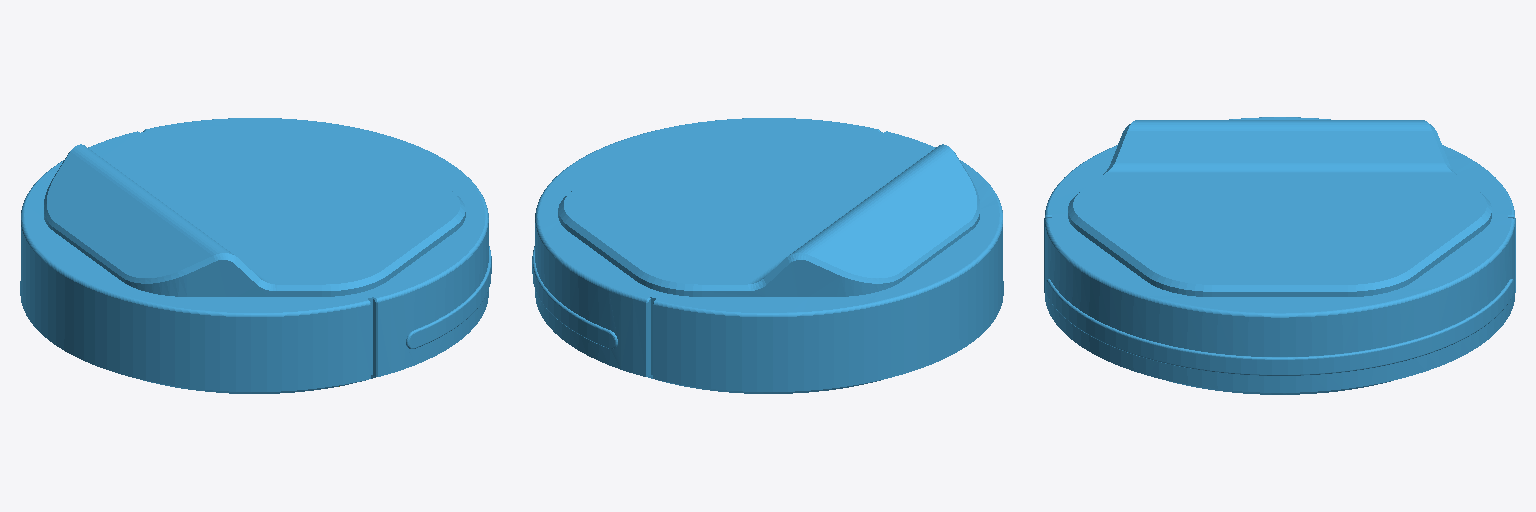
URDF robot description (tbot):
<?xml version="1.0" encoding="utf-8"?>
<robot name="tbot" xmlns:controller="http://playerstage.sourceforge.net/gazebo/xmlschema/#controller" xmlns:interface="http://playerstage.sourceforge.net/gazebo/xmlschema/#interface" xmlns:sensor="http://playerstage.sourceforge.net/gazebo/xmlschema/#sensor" xmlns:xacro="http://ros.org/wiki/xacro">

  <material name="dark">
    <color rgba="0.3 0.3 0.3 1.0"/>
  </material>

  <link name="base_footprint"/>

  <joint name="base_joint" type="fixed">
    <origin rpy="0 0 0" xyz="0 0 0.062"/>
    <parent link="base_footprint"/>
    <child link="base_link"/>
  </joint>

  <link name="base_link">
    <visual>
      <geometry>
        <mesh filename="package://tbot_sim/models/kobuki/meshes/main_body.dae"/>
      </geometry>
      <origin rpy="0 0 0" xyz="0.0 0 0.0"/>
    </visual>
    <collision name="base">
      <geometry>
        <cylinder length="0.10938" radius="0.178"/>
      </geometry>
      <origin rpy="0 0 0" xyz="0.0 0 0.05949"/>
    </collision>
    <inertial>
      <origin xyz="0.01 0 0"/>
      <mass value="2.4"/>
      <inertia ixx="0.019995" ixy="0.0" ixz="0.0" iyy="0.019995" iyz="0.0" izz="0.03675"/>
    </inertial>
  </link>

  <!-- left wheel -->
  <joint name="left_wheel_joint" type="fixed">
    <parent link="base_link"/>
    <child link="left_wheel"/>
    <origin xyz="0 0.115 -0.028" rpy="0 0 0"/>
    <axis xyz="0 1 0"/>
    <limit lower="0" upper="0" effort="0" velocity="0"/>
  </joint>

  <link name="left_wheel">
    <inertial>
      <mass value="0.010000"/>
      <origin xyz="0 0 0" rpy="0 0 0"/>
      <inertia ixx="0.001000" ixy="0" ixz="0" iyy="0.001000" iyz="0" izz="0.001000"/>
    </inertial>
    <collision name="collision">
      <origin xyz="0 0 0" rpy="0     1.5707 1.5707"/>
      <geometry>
        <cylinder radius="0.033000" length="0.023000"/>
      </geometry>
    </collision>
    <visual name="visual">
      <origin xyz="0 0 0" rpy="0     1.5707 1.5707"/>
      <geometry>
        <mesh filename="package://tbot_sim/models/kobuki/meshes/wheel.dae"/>
      </geometry>
    </visual>
  </link>

  <!-- right wheel -->
  <joint name="right_wheel_joint" type="fixed">
    <parent link="base_link"/>
    <child link="right_wheel"/>
    <origin xyz="0 -0.115 -0.028" rpy="0 0 0"/>
    <axis rpy="0 0 0"  xyz="0 1 0"/>
    <limit lower="0" upper="0" effort="0" velocity="0"/>
  </joint>

  <link name="right_wheel">
    <inertial>
      <mass value="0.010000"/>
      <origin xyz="0 0 0" rpy="0 0 0"/>
      <inertia ixx="0.001000" ixy="0" ixz="0" iyy="0.001000" iyz="0" izz="0.001000"/>
    </inertial>
    <collision name="collision">
      <origin xyz="0 0 0" rpy="0     1.5707 1.5707"/>
      <geometry>
        <cylinder radius="0.033000" length="0.023000"/>
      </geometry>
    </collision>
    <visual name="visual">
      <origin xyz="0 0 0" rpy="0     1.5707 1.5707"/>
      <geometry>
        <mesh filename="package://tbot_sim/models/kobuki/meshes/wheel.dae"/>
      </geometry>
    </visual>
  </link>

  <joint name="caster_front_joint" type="fixed">
    <parent link="base_link"/>
    <child link="caster_front_link"/>
    <origin rpy="-1.57079632679 0 0" xyz="0.115 0.0 0.007"/>
  </joint>
  <link name="caster_front_link">
    <collision>
      <geometry>
        <cylinder length="0.0176" radius="0.017"/>
      </geometry>
      <origin rpy="0 0 0" xyz="0 0 0"/>
    </collision>
    <inertial>
      <mass value="0.01"/>
      <origin xyz="0 0 0"/>
      <inertia ixx="0.001" ixy="0.0" ixz="0.0" iyy="0.001" iyz="0.0" izz="0.001"/>
    </inertial>
  </link>
  <joint name="caster_back_joint" type="fixed">
    <parent link="base_link"/>
    <child link="caster_back_link"/>
    <origin rpy="-1.57079632679 0 0" xyz="-0.135 0.0 0.009"/>
  </joint>
  <link name="caster_back_link">
    <collision>
      <geometry>
        <cylinder length="0.0176" radius="0.017"/>
      </geometry>
      <origin rpy="0 0 0" xyz="0 0 0"/>
    </collision>
    <inertial>
      <mass value="0.01"/>
      <origin xyz="0 0 0"/>
      <inertia ixx="0.001" ixy="0.0" ixz="0.0" iyy="0.001" iyz="0.0" izz="0.001"/>
    </inertial>
  </link>

  <!-- IMU -->
  <joint name="gyro_joint" type="fixed">
    <axis xyz="0 1 0"/>
    <origin rpy="0 0 0" xyz="0.056 0.062 0.0202"/>
    <parent link="base_link"/>
    <child link="imu_link"/>
  </joint>

  <link name="imu_link">
    <inertial>
      <mass value="0.001"/>
      <origin rpy="0 0 0" xyz="0 0 0"/>
      <inertia ixx="0.0001" ixy="0" ixz="0" iyy="0.000001" iyz="0" izz="0.0001"/>
    </inertial>
  </link>

  <!-- Cliff -->
  <joint name="cliff_sensor_left_joint" type="fixed">
    <origin rpy="0 1.57079632679 0" xyz="0.08734 0.13601 0.0214"/>
    <parent link="base_link"/>
    <child link="cliff_sensor_left_link"/>
  </joint>
  <link name="cliff_sensor_left_link">
    <inertial>
      <mass value="0.0001"/>
      <origin xyz="0 0 0"/>
      <inertia ixx="0.0001" ixy="0.0" ixz="0.0" iyy="0.0001" iyz="0.0" izz="0.0001"/>
    </inertial>
  </link>
  <joint name="cliff_sensor_right_joint" type="fixed">
    <origin rpy="0 1.57079632679 0" xyz="0.085 -0.13601 0.0214"/>
    <parent link="base_link"/>
    <child link="cliff_sensor_right_link"/>
  </joint>
  <link name="cliff_sensor_right_link">
    <inertial>
      <mass value="0.0001"/>
      <origin xyz="0 0 0"/>
      <inertia ixx="0.0001" ixy="0.0" ixz="0.0" iyy="0.0001" iyz="0.0" izz="0.0001"/>
    </inertial>
  </link>
  <joint name="cliff_sensor_front_joint" type="fixed">
    <origin rpy="0 1.57079632679 0" xyz="0.156 0.00 0.0214"/>
    <parent link="base_link"/>
    <child link="cliff_sensor_front_link"/>
  </joint>
  <link name="cliff_sensor_front_link">
    <inertial>
      <mass value="0.0001"/>
      <origin xyz="0 0 0"/>
      <inertia ixx="0.0001" ixy="0.0" ixz="0.0" iyy="0.0001" iyz="0.0" izz="0.0001"/>
    </inertial>
  </link>
  
  <!-- Laser -->
  <joint name="laser_joint" type="fixed">
      <parent link="base_link"/>
      <child link="laser_link"/>
      <origin rpy="0 0 0" xyz="0.115 0.00 0.07"/>
  </joint>

  <link name="laser_link">
    <visual>
      <geometry>
        <mesh filename="package://tbot_sim/models/hokuyo/meshes/hokuyo.dae"/>
      </geometry>
      <origin rpy="0 0 0" xyz="0.01 0 0.0"/>
    </visual>
    <collision name="collision-laser">
      <geometry>
        <cylinder length="0.10938" radius="0.178"/>
      </geometry>
      <origin rpy="0 0 0" xyz="0.0 0 0.05949"/>
    </collision>
    <inertial>
      <mass value="0.1"/>
      <origin xyz="0 0 0"/>
      <inertia ixx="0.0001" ixy="0.0" ixz="0.0" iyy="0.0001" iyz="0.0" izz="0.0001"/>
    </inertial>
  </link>

  <!-- kinect -->
  <joint name="kinect_joint" type="fixed">
    <parent link="base_link"/>
    <child link="camera_link"/>
    <origin xyz="-0.05 0 0.3" rpy="0 0 0"/>
    <axis xyz="0 0 0"/>
    <limit lower="0" upper="0" effort="0" velocity="0"/>
  </joint>

  <link name="camera_link">
    <inertial>
      <mass value="0.1"/>
      <origin xyz="0 0 0" rpy="0 0 0"/>
      <inertia ixx="0" ixy="0" ixz="0" iyy="0" iyz="0" izz="0"/>
    </inertial>
    <collision name="kinect_collision">
      <origin xyz="0.03   0   0" rpy="0 0 0"/>
      <geometry>
        <box size="0.073000 0.276000 0.072000"/>
      </geometry>
    </collision>
    <visual name="kinect_visual">
      <origin xyz="0.03  0   0" rpy="0 0 0"/>
      <geometry>
        <mesh filename="package://tbot_sim/models/kinect/meshes/kinect.dae" scale="1.0 1.0 1.0"/>
      </geometry>
    </visual>
  </link>

  <collision name="standoff_0_kinect_collision">
    <pose>-0.025 -0.077 0.186 0 0 0</pose>
    <geometry>
      <cylinder length="0.18" radius="0.06"/>
    </geometry>
  </collision>
  <visual name="standoff_0_kinect_visual">
    <pose>-0.025 -0.077 0.186 0 0 0</pose>
    <geometry>
      <cylinder>
        <radius>0.006</radius>
        <length>0.18</length>
      </cylinder>
    </geometry>
    <material name="dark"/>
  </visual>

  <collision name="standoff_1_kinect_collision">
    <pose>-0.025 0.077 0.186 0 0 0</pose>
    <geometry>
      <cylinder length="0.18" radius="0.06"/>
    </geometry>
  </collision>
  <visual name="standoff_1_kinect_visual">
    <pose>-0.025 0.077 0.186 0 0 0</pose>
    <geometry>
      <cylinder length="0.18" radius="0.06"/>
    </geometry>
    <material name="dark"/>
  </visual>

  <!-- <gazebo>
    <plugin name="camera_plugin" filename="libgazebo_ros_camera.so">
        <alwaysOn>true</alwaysOn>
        <updateRate>30.0</updateRate>
        <cameraName>camera</cameraName>
        <imageTopicName>image_raw</imageTopicName>
        <cameraInfoTopicName>camera_info</cameraInfoTopicName>
        <frameName>camera_link</frameName>
        <hackBaseline>0.07</hackBaseline>
        <distortionK1>0.0</distortionK1>
        <distortionK2>0.0</distortionK2>
        <distortionK3>0.0</distortionK3>
        <distortionT1>0.0</distortionT1>
        <distortionT2>0.0</distortionT2>
    </plugin>

    <plugin name="imu_plugin" filename="libgazebo_ros_imu_sensor.so">
        <alwaysOn>true</alwaysOn>       
        <bodyName>imu_link</bodyName>
        <topicName>imu</topicName>
        <serviceName>imu_service</serviceName>
        <gaussianNoise>0.0</gaussianNoise>
        <updateRate>10.0</updateRate> 
    </plugin>

    <plugin name="kobuki_diff_drive" filename="libgazebo_ros_diff_drive.so">
        <update_rate>30</update_rate>
        <left_joint>wheel_left_joint</left_joint>
        <right_joint>wheel_right_joint</right_joint>
        <wheel_separation>.230</wheel_separation>
        <wheel_diameter>0.070</wheel_diameter>
        <torque>1.0</torque>
        <velocity_command_timeout>0.6</velocity_command_timeout>
        <command_topic>cmd_vel</command_topic>
        <publish_odom>true</publish_odom>
        <publish_odom_tf>true</publish_odom_tf>
        <publish_wheel_tf>false</publish_wheel_tf>
        <odometry_topic>odom</odometry_topic>
        <odometry_frame>odom</odometry_frame>
        <robot_base_frame>base_link</robot_base_frame>
    </plugin>
  </gazebo> -->

</robot>

--- Facts derived from the render (not from the file) ---
3 views of the same robot in one strip: view 1: azimuth 30°, elevation 25°; view 2: azimuth 150°, elevation 25°; view 3: azimuth 270°, elevation 25° (orthographic).
Model tbot with 12 links and 11 joints (11 fixed), rooted at base_footprint, posed all joints at 0.
Visible links, largest first — view 1: base_link; view 2: base_link; view 3: base_link.
Link boxes in pixels (x1,y1,x2,y2): base_link: (20,118,491,393); base_link: (532,118,1003,393); base_link: (1044,117,1515,394).
Bounding box of the posed robot: 0.3518 × 0.35 × 0.1251 m (x, y, z).
3 mesh visuals loaded from 4 distinct referenced files (2 Collada DAE); not drawn: 2 (reference not matched to a file when rendering).
